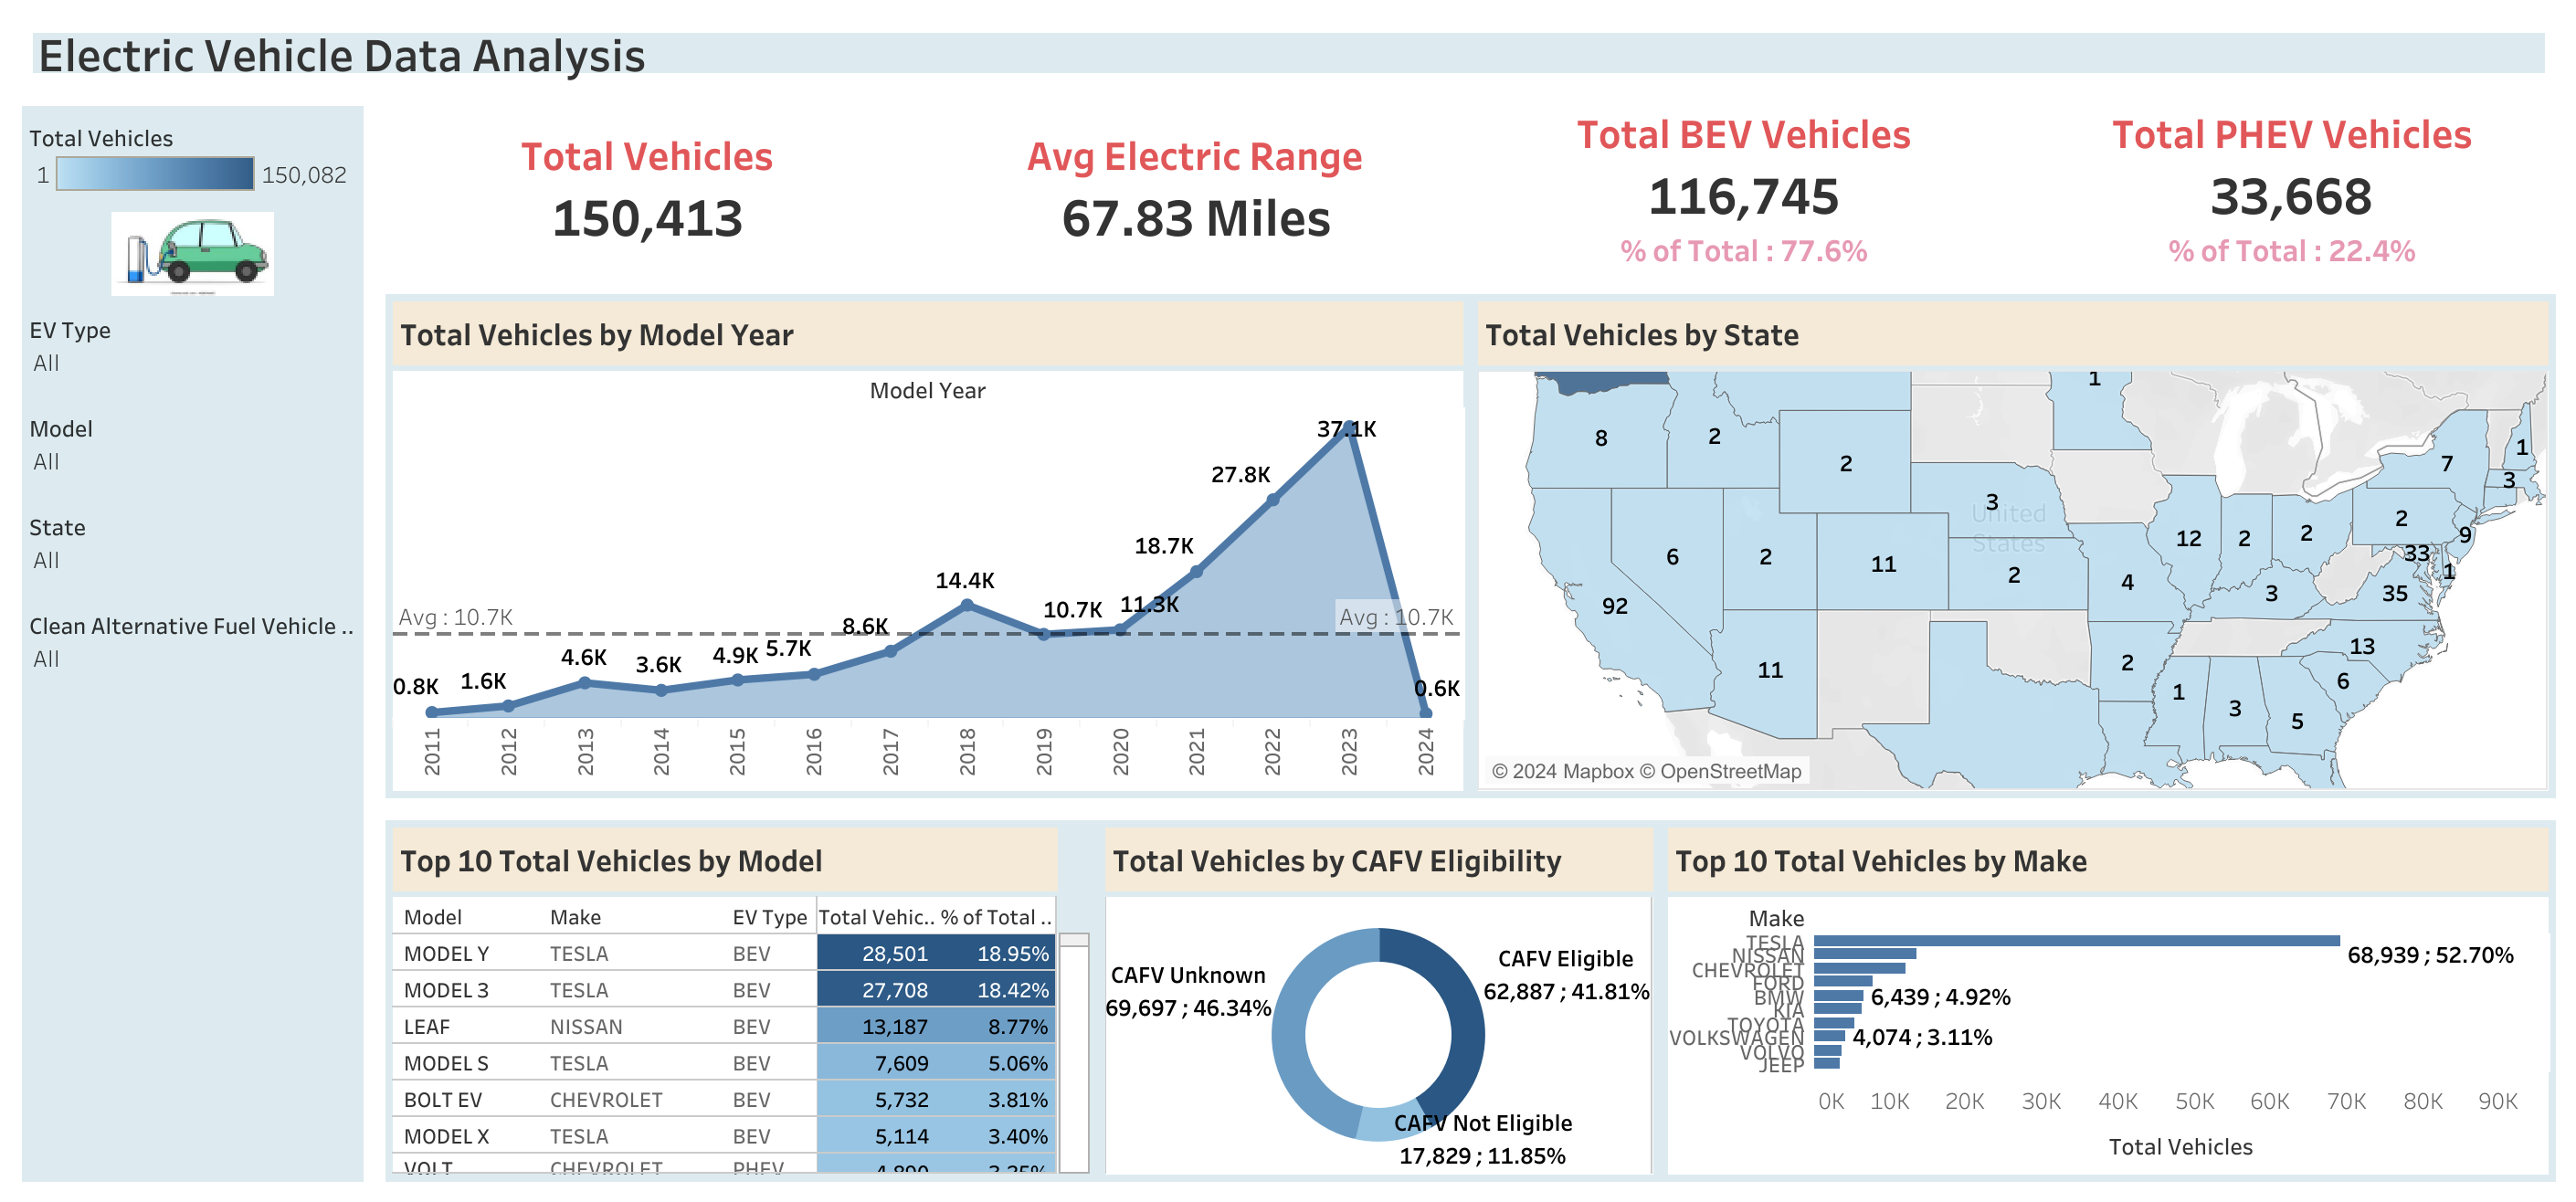

What the dashboard file says about the page in this screenshot:
{"tool":"tableau","page":{"name":"Dashboard 1","canvas":[1000,1000],"units":"permille","ordinal":0},"visuals":[{"type":"title","box":[4.9,7.2,990.2,54.3]},{"type":"worksheet","title":"Total Vehicles","mark":"Automatic","box":[146.3,61.5,212.2,124.2]},{"type":"worksheet","title":"Avg Electric Range","mark":"Automatic","box":[358.5,61.5,212.2,124.2]},{"type":"worksheet","title":"Total BEV Vehicles","mark":"Automatic","box":[570.7,61.5,212.2,124.2]},{"type":"worksheet","title":"Total PHEV Vehicles","mark":"Automatic","box":[782.9,61.5,212.2,124.2]},{"type":"legend","title":"Total Vehicles by State","param":"[federated.0hfnwgh05f2b4q16b4tw41o6a92o].[usr:Calculation_678425082926137344:qk]","box":[9.8,68.8,131.7,84.4]},{"type":"image","param":"Image/download (1).jpeg","box":[9.8,153.2,131.7,83.2]},{"type":"worksheet","title":"Total Vehicles by Model Year","mark":"Area","rows":["Calculation_678425082926137344","Calculation_678425082926137344"],"cols":["Model Year"],"box":[151.2,193,419.5,332.9]},{"type":"worksheet","title":"Total Vehicles by State","mark":"Multipolygon","box":[570.7,193,419.5,332.9]},{"type":"filter","title":"Top 10 Total Vehicles by Make","param":"[federated.0hfnwgh05f2b4q16b4tw41o6a92o].[none:Electric Vehicle Type:nk]","box":[9.8,236.4,131.7,83.2]},{"type":"filter","title":"Total Vehicles by Model Year","param":"[federated.0hfnwgh05f2b4q16b4tw41o6a92o].[none:Model:nk]","box":[9.8,319.7,131.7,83.2]},{"type":"filter","title":"Total Vehicles by Model Year","param":"[federated.0hfnwgh05f2b4q16b4tw41o6a92o].[none:State:nk]","box":[9.8,402.9,131.7,83.2]},{"type":"filter","title":"Total Vehicles by Model Year","param":"[federated.0hfnwgh05f2b4q16b4tw41o6a92o].[none:Clean Alternative Fuel Vehicle (C","box":[9.8,486.1,131.7,83.2]},{"type":"worksheet","title":"Top 10 Total Vehicles by Model","mark":"Square","rows":["Model","Make","Electric Vehicle Type"],"box":[151,540.4,317.1,445]},{"type":"worksheet","title":"Total Vehicles by CAFV Eligibility","mark":"Pie","rows":["Calculation_678425082964103176","Calculation_678425082964103176"],"box":[468,540.4,250.4,445]},{"type":"worksheet","title":"Top 10 Total Vehicles by Make","mark":"Automatic","rows":["Make"],"cols":["Calculation_678425082926137344"],"box":[718.4,540.4,271.8,445]},{"type":"blank","box":[9.8,569.4,131.7,83.2]},{"type":"blank","box":[9.8,652.6,131.7,83.2]},{"type":"blank","box":[9.8,735.8,131.7,83.2]},{"type":"blank","box":[9.8,819.1,131.7,83.2]},{"type":"blank","box":[9.8,902.3,131.7,83.2]}]}

Visuals, with their boxes on the dashboard's canvas, which has no fixed pixel size, in thousandths of its width and height (x1, y1, x2, y2). These are canvas units, not pixel positions in the 2576x1202 screenshot, which may show the page scaled, cropped or inside an application window:
title: {"left": 5, "top": 7, "right": 995, "bottom": 62}
"Total Vehicles" worksheet: {"left": 146, "top": 62, "right": 358, "bottom": 186}
"Avg Electric Range" worksheet: {"left": 358, "top": 62, "right": 571, "bottom": 186}
"Total BEV Vehicles" worksheet: {"left": 571, "top": 62, "right": 783, "bottom": 186}
"Total PHEV Vehicles" worksheet: {"left": 783, "top": 62, "right": 995, "bottom": 186}
"Total Vehicles by State" legend: {"left": 10, "top": 69, "right": 142, "bottom": 153}
image: {"left": 10, "top": 153, "right": 142, "bottom": 236}
"Total Vehicles by Model Year" worksheet (Area marks): {"left": 151, "top": 193, "right": 571, "bottom": 526}
"Total Vehicles by State" worksheet (Multipolygon marks): {"left": 571, "top": 193, "right": 990, "bottom": 526}
"Top 10 Total Vehicles by Make" filter: {"left": 10, "top": 236, "right": 142, "bottom": 320}
"Total Vehicles by Model Year" filter: {"left": 10, "top": 320, "right": 142, "bottom": 403}
"Total Vehicles by Model Year" filter: {"left": 10, "top": 403, "right": 142, "bottom": 486}
"Total Vehicles by Model Year" filter: {"left": 10, "top": 486, "right": 142, "bottom": 569}
"Top 10 Total Vehicles by Model" worksheet (Square marks): {"left": 151, "top": 540, "right": 468, "bottom": 985}
"Total Vehicles by CAFV Eligibility" worksheet (Pie marks): {"left": 468, "top": 540, "right": 718, "bottom": 985}
"Top 10 Total Vehicles by Make" worksheet: {"left": 718, "top": 540, "right": 990, "bottom": 985}
blank: {"left": 10, "top": 569, "right": 142, "bottom": 653}
blank: {"left": 10, "top": 653, "right": 142, "bottom": 736}
blank: {"left": 10, "top": 736, "right": 142, "bottom": 819}
blank: {"left": 10, "top": 819, "right": 142, "bottom": 902}
blank: {"left": 10, "top": 902, "right": 142, "bottom": 986}
